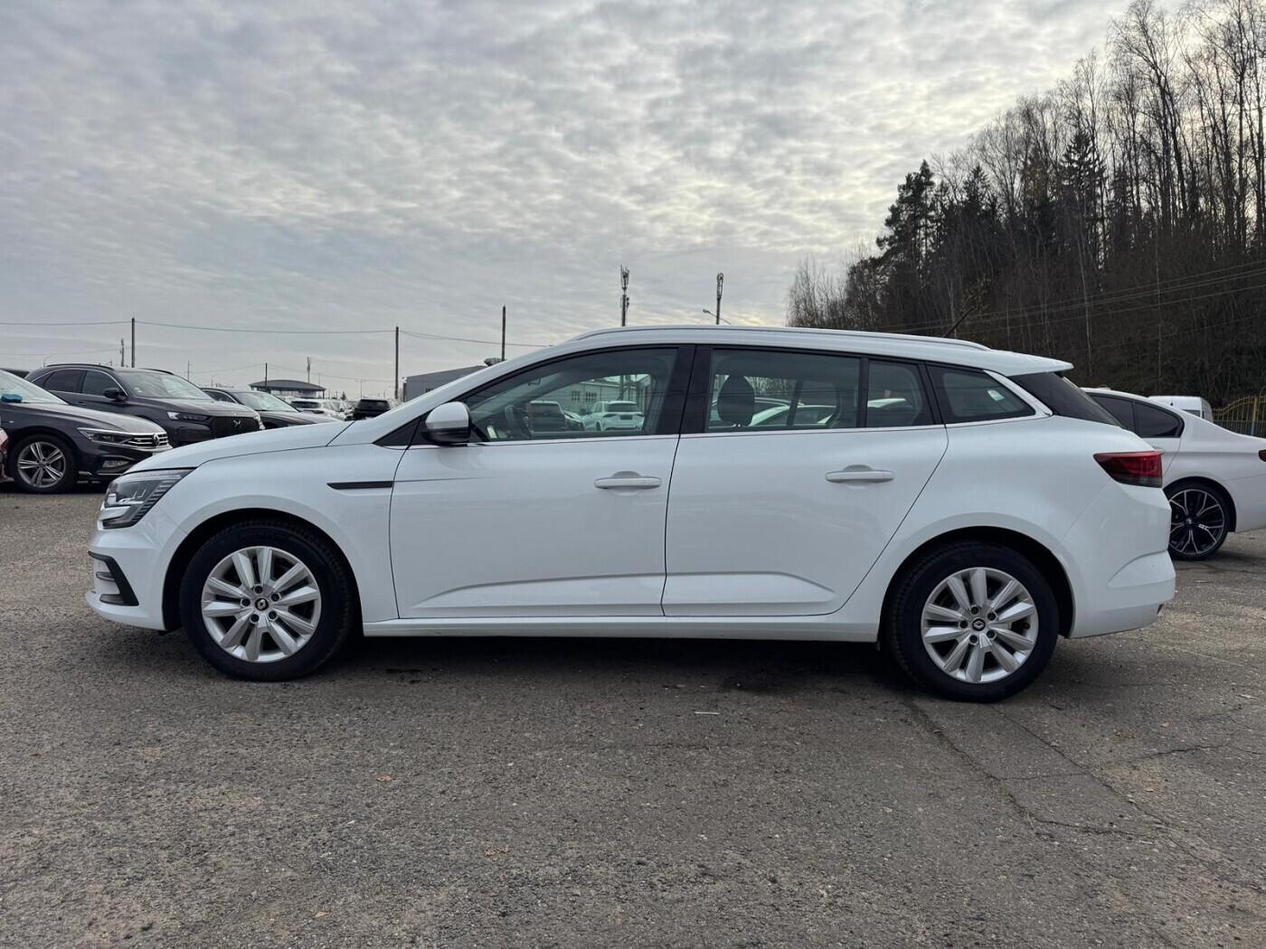Megane_2020: (81, 327, 1163, 708)
